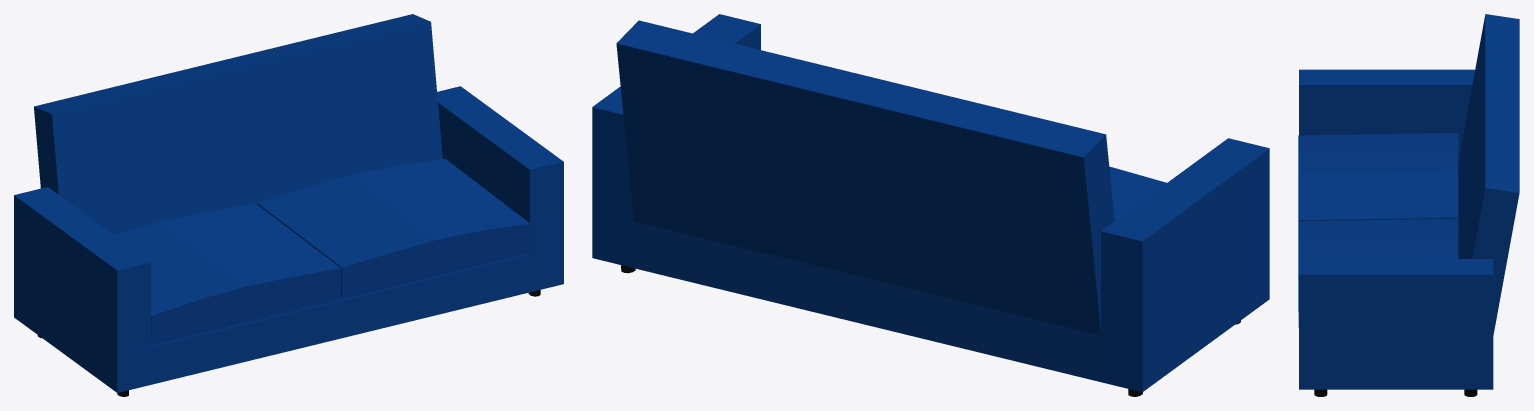
The model's file is 2_seat_sofa_01.glb.
3 renders of one model, left to right at view 1: azimuth 30°, elevation 25°; view 2: azimuth 150°, elevation 25°; view 3: azimuth 270°, elevation 25°, orthographic. The views are drawn at different scales.
Visible parts, largest first — view 1: Cube; view 2: Cube; view 3: Cube.
Part boxes in pixels (x1,y1,x2,y2): Cube: (14,14,563,396); Cube: (592,14,1269,396); Cube: (1298,14,1519,396).
Bounding box in the file's own units: 1.9 × 0.862 × 0.8664.
1 material, 1 textured.
